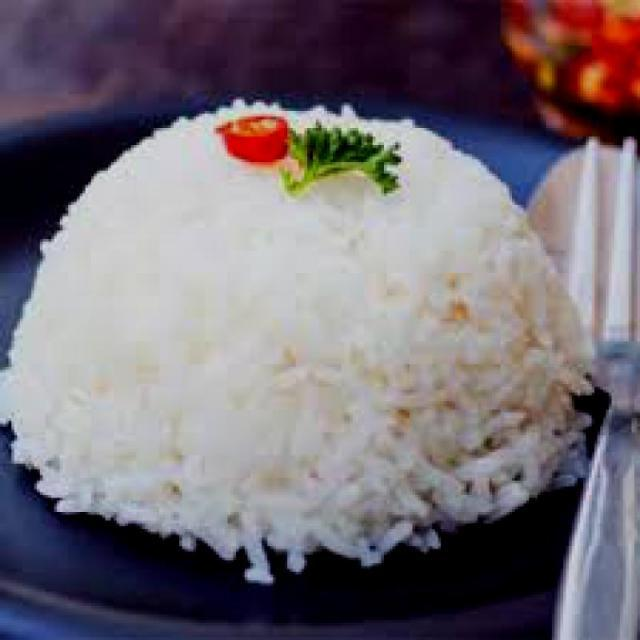rice: (2, 98, 593, 569)
